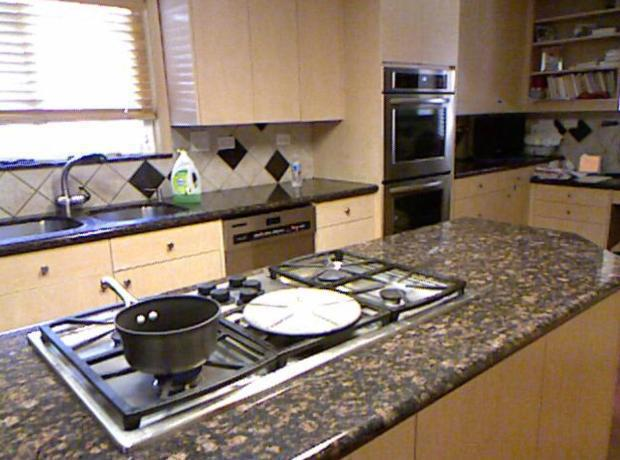Lavaplatos: (0, 136, 182, 250)
